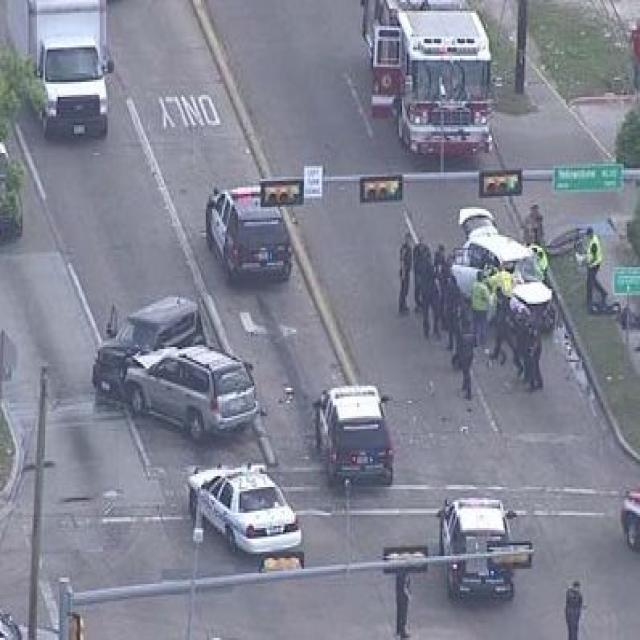traffic_incident: (444, 185, 566, 362)
